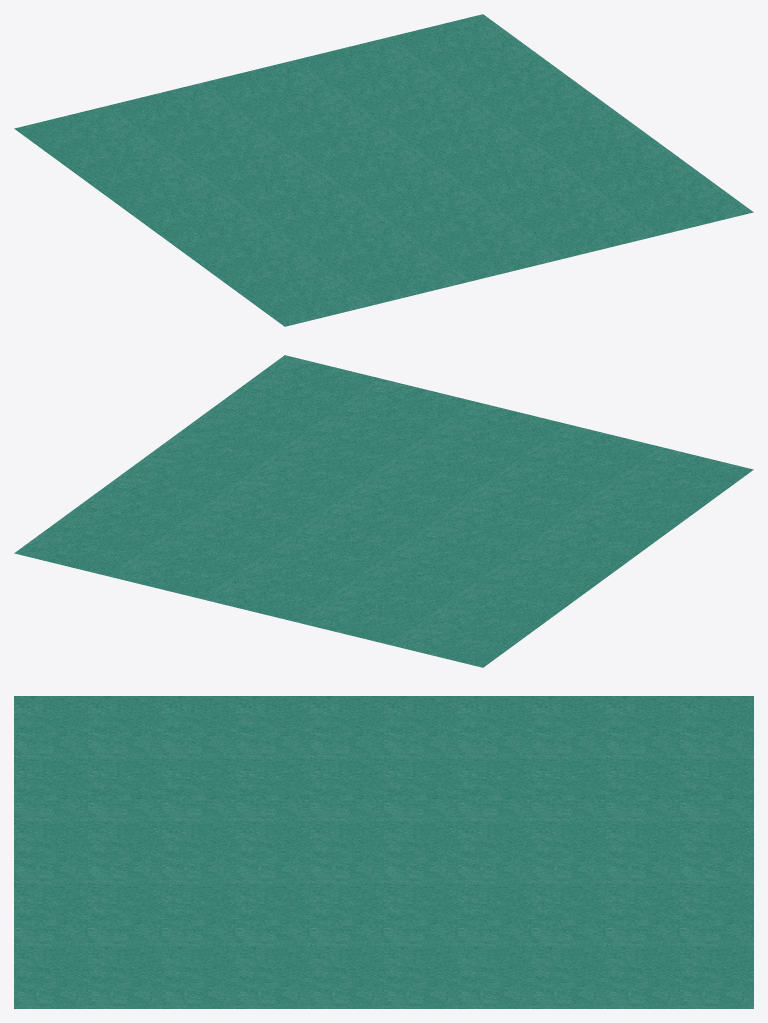
The model's file is grass_5x5.fbx.
The picture shows the model from 3 angles, top to bottom: view 1: azimuth 30°, elevation 25°; view 2: azimuth 150°, elevation 25°; view 3: azimuth 270°, elevation 25°; orthographic projection. The views are drawn at different scales.
Parts seen in each view (by area): view 1: tileGrassPlate; view 2: tileGrassPlate; view 3: tileGrassPlate.
Part boxes in pixels (x1,y1,x2,y2): tileGrassPlate: [14, 14, 753, 326]; tileGrassPlate: [14, 355, 753, 667]; tileGrassPlate: [14, 696, 753, 1008].
Size of the model in its own units: 4000 by 0.000652 by 4000.
1 material, 1 textured.
